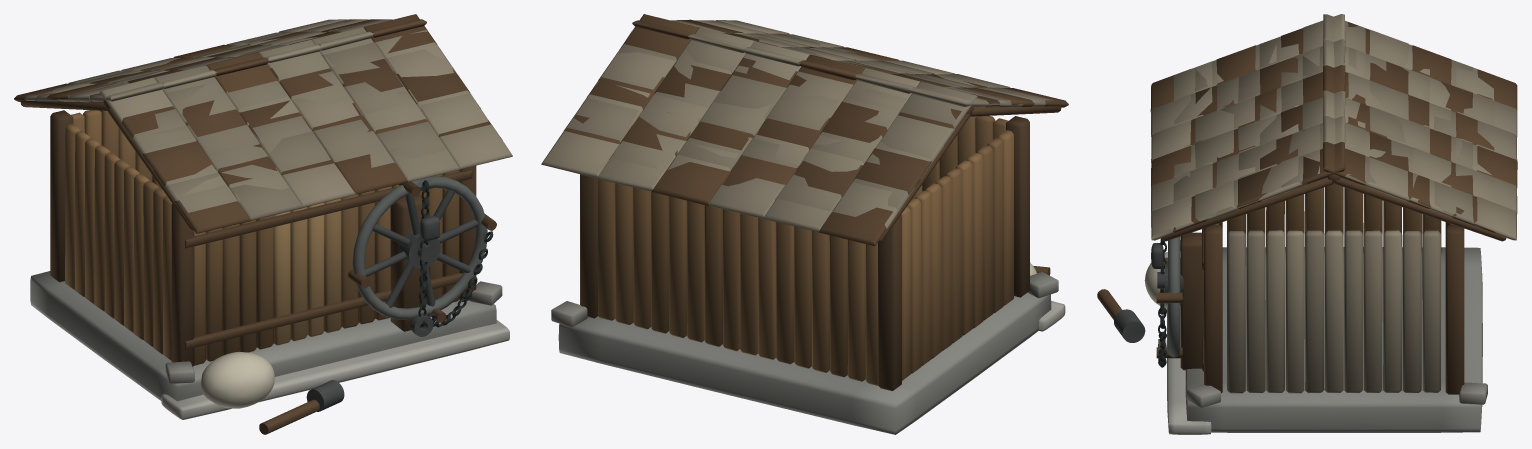
File: gate_wheelhouse_a.glb
3 views of the same model, side by side, from view 1: azimuth 30°, elevation 25°; view 2: azimuth 150°, elevation 25°; view 3: azimuth 270°, elevation 25° (orthographic). The views are drawn at different scales.
Visible parts, largest first — view 1: Surface; view 2: Surface; view 3: Surface.
Part boxes in pixels (x1,y1,x2,y2): Surface: [14, 14, 512, 434]; Surface: [541, 14, 1068, 434]; Surface: [1097, 14, 1517, 434].
Size of the model in its own units: 4.21 by 3.17 by 4.52.
